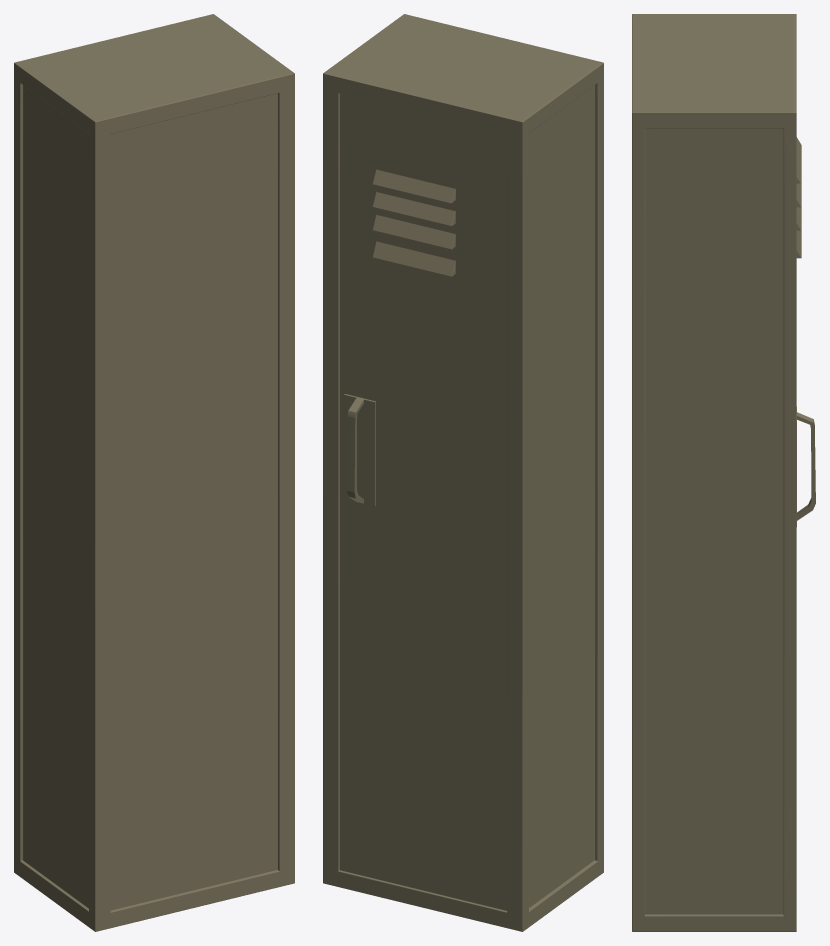
File: locker.glb
The picture shows the model from 3 angles, left to right: view 1: azimuth 30°, elevation 25°; view 2: azimuth 150°, elevation 25°; view 3: azimuth 270°, elevation 25°; orthographic projection.
Parts seen in each view (by area): view 1: polySurface2; view 2: polySurface2; view 3: polySurface2.
Part boxes in pixels (x1,y1,x2,y2): polySurface2: (14,14,294,931); polySurface2: (323,14,603,931); polySurface2: (632,14,815,931).
Bounding box in the file's own units: 2.86 × 11.09 × 2.25.
